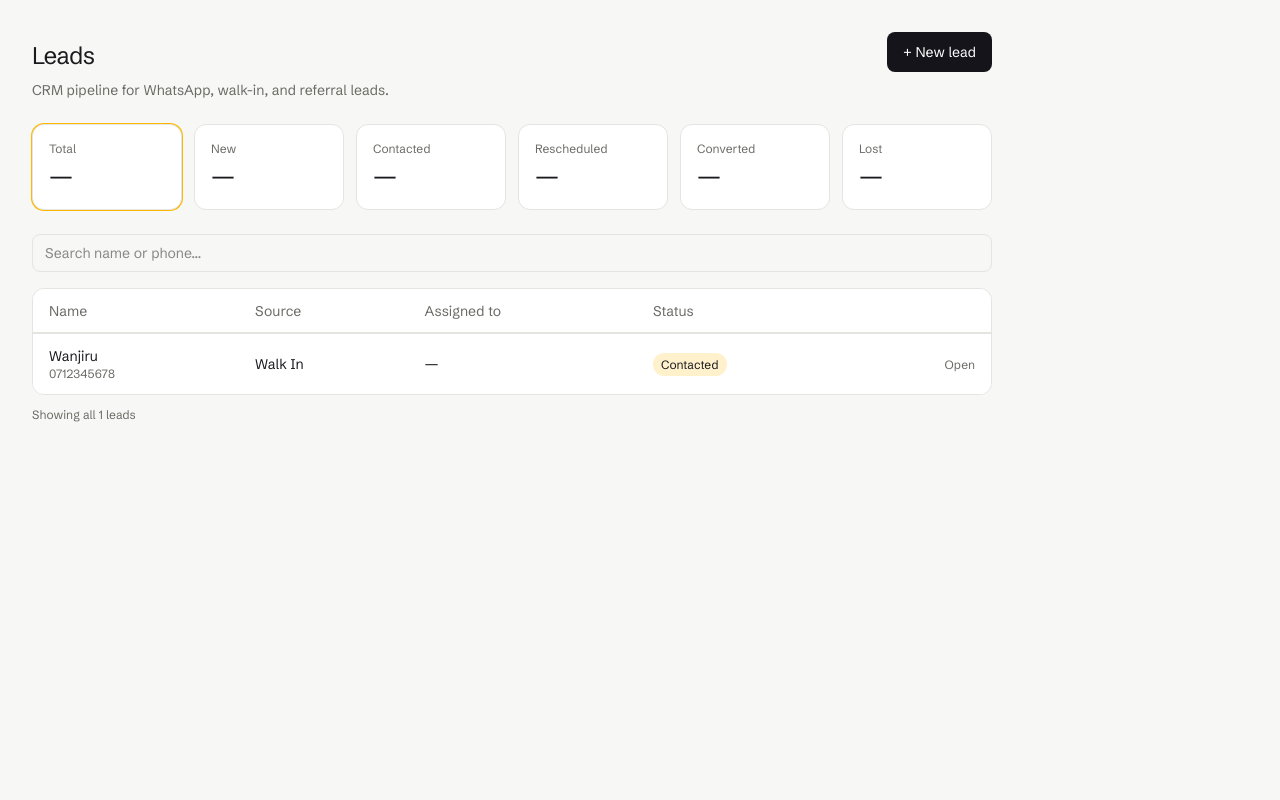
Test: Leads edit and delete › shows the server message and keeps the form open when the edit is refused
The width and height of the screenshot is (1280, 800).
Check: the text "Wanjiru" is shown, box [49,347,98,365]
Click the button "Open" at (960, 365), box [944,357,975,373]
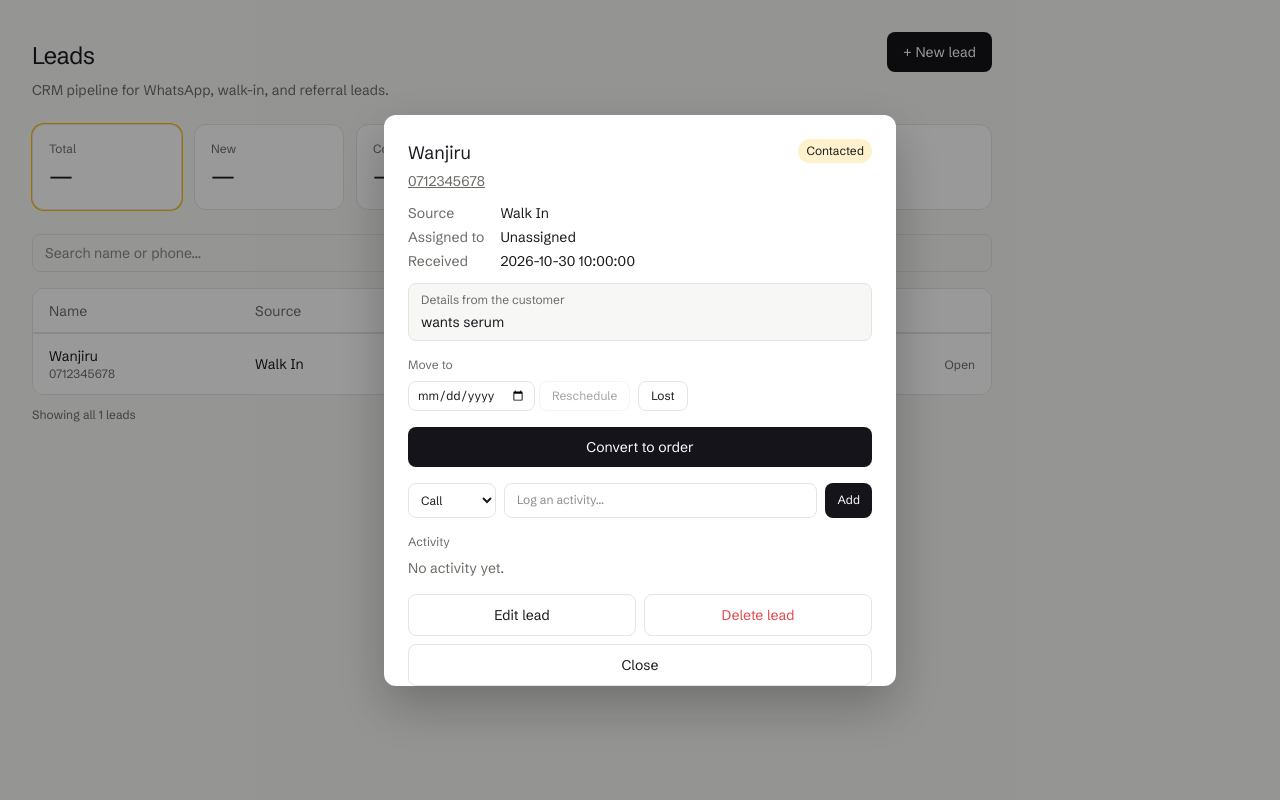
Click the button "Edit lead" at (522, 614), box [408,594,636,636]
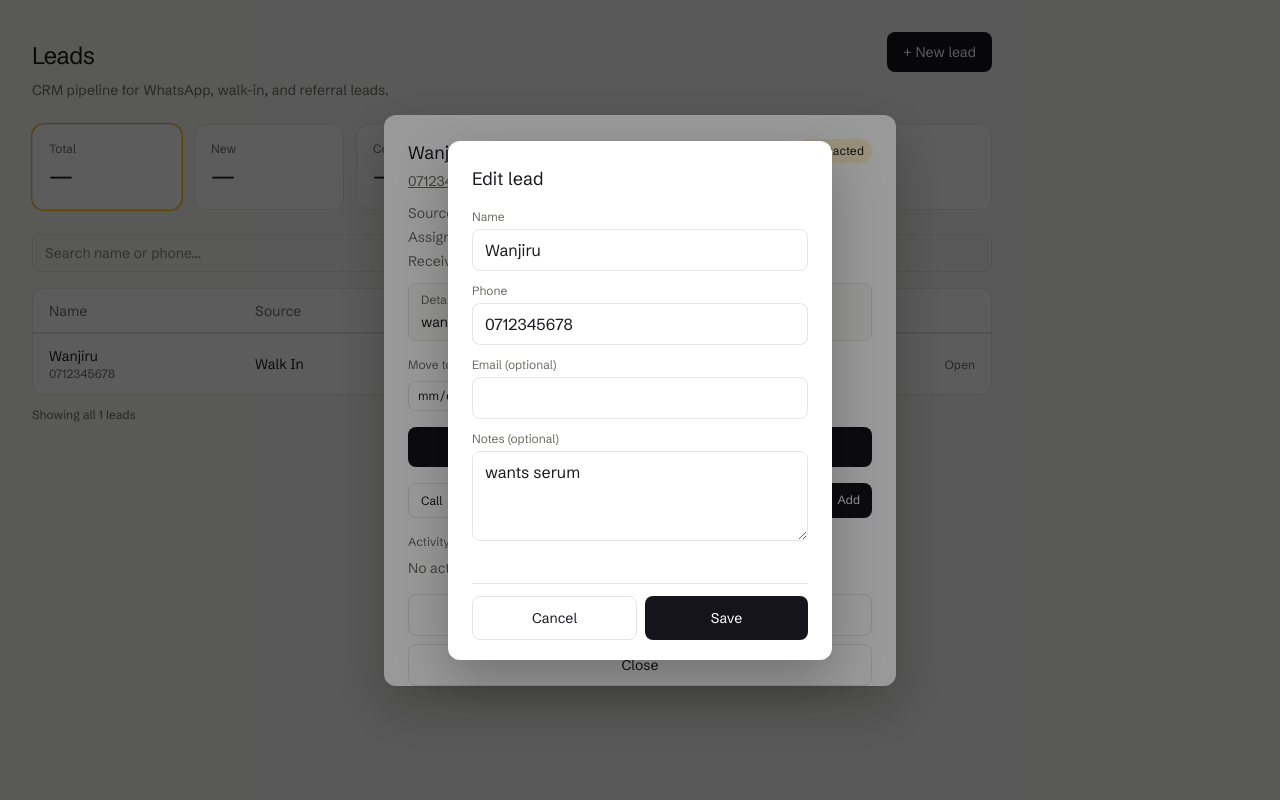
Click the button "Save" at (726, 618), box [645,596,808,640]
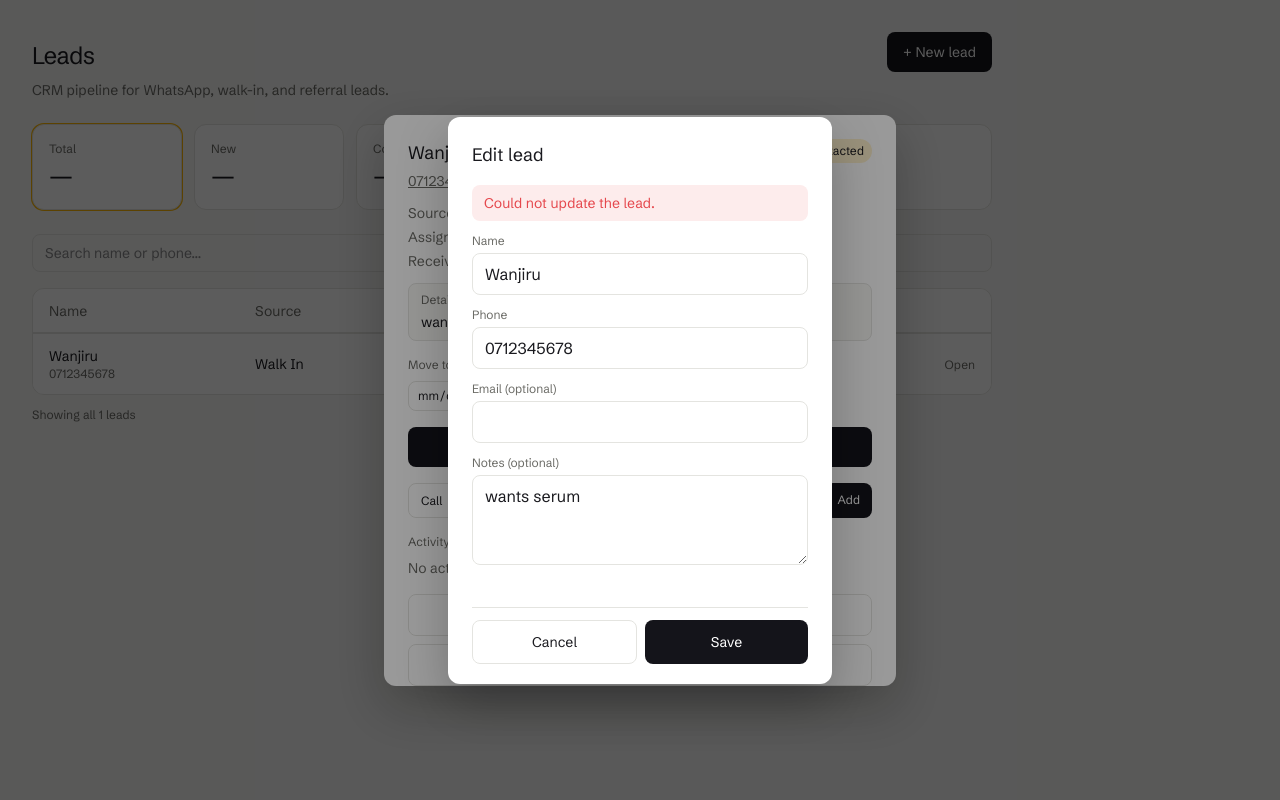
Check: the field labelled "Name" is shown, box [472,252,808,294]
Check: the text "Could not update the lead." is shown, box [472,184,808,220]
